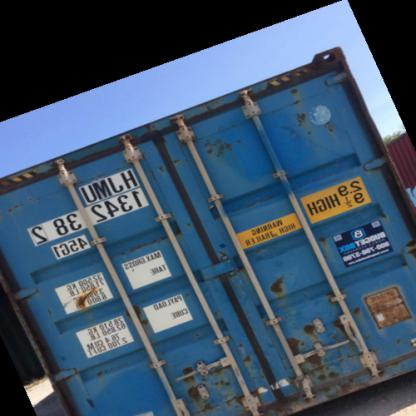Damage: (286, 319, 343, 386), (58, 274, 104, 315), (284, 81, 314, 142), (200, 129, 248, 164), (174, 351, 201, 401), (209, 364, 237, 400), (120, 296, 150, 328), (267, 268, 291, 304), (323, 112, 347, 138), (239, 335, 256, 369), (88, 366, 115, 387), (311, 228, 335, 249)
